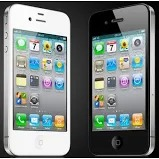iphone4: (84, 2, 157, 159), (2, 2, 73, 157)
iphone5: (83, 1, 155, 158), (2, 2, 73, 157)
